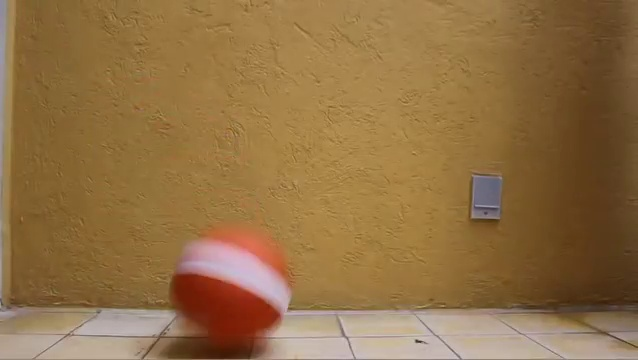ball: (169, 223, 291, 346)
